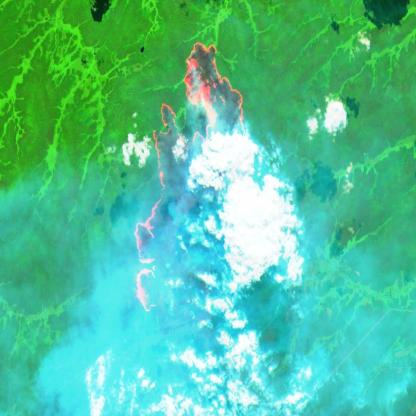fire: (134, 38, 246, 317)
